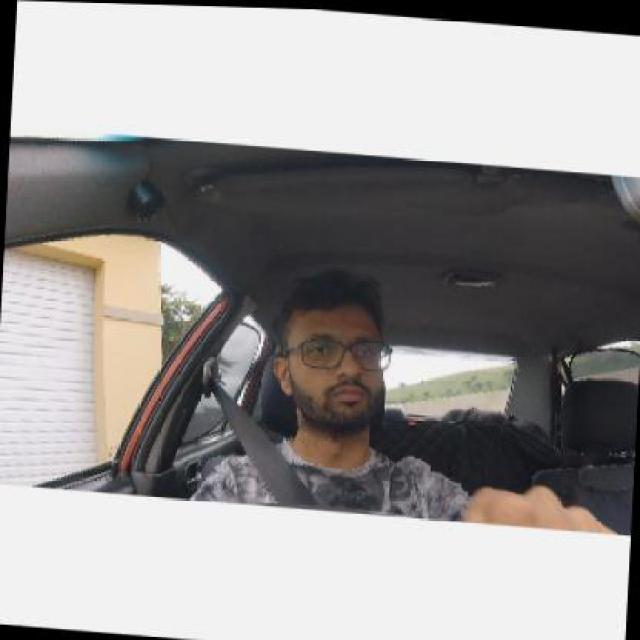person: (277, 269, 403, 451)
